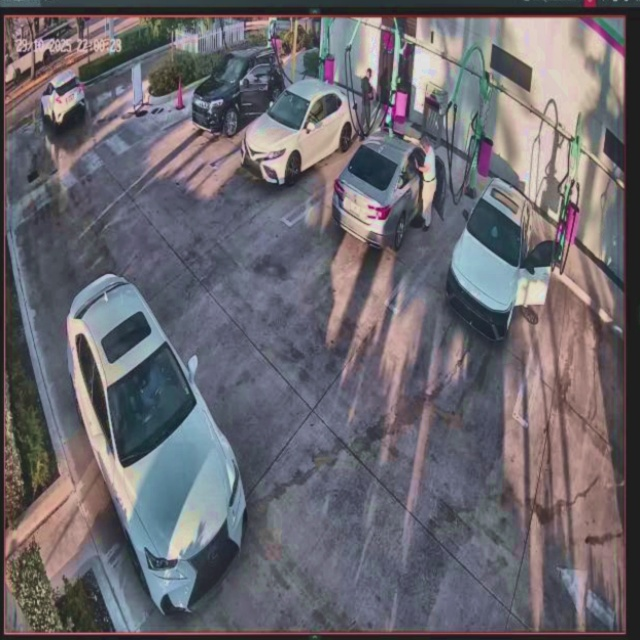Car: (68, 274, 250, 612), (447, 179, 552, 337), (333, 126, 444, 250), (244, 78, 357, 185)
